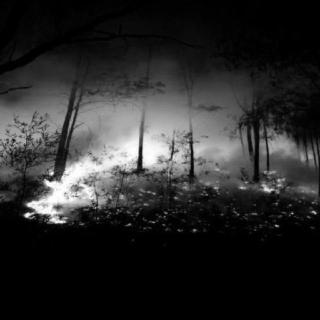Fire: (9, 95, 313, 223)
